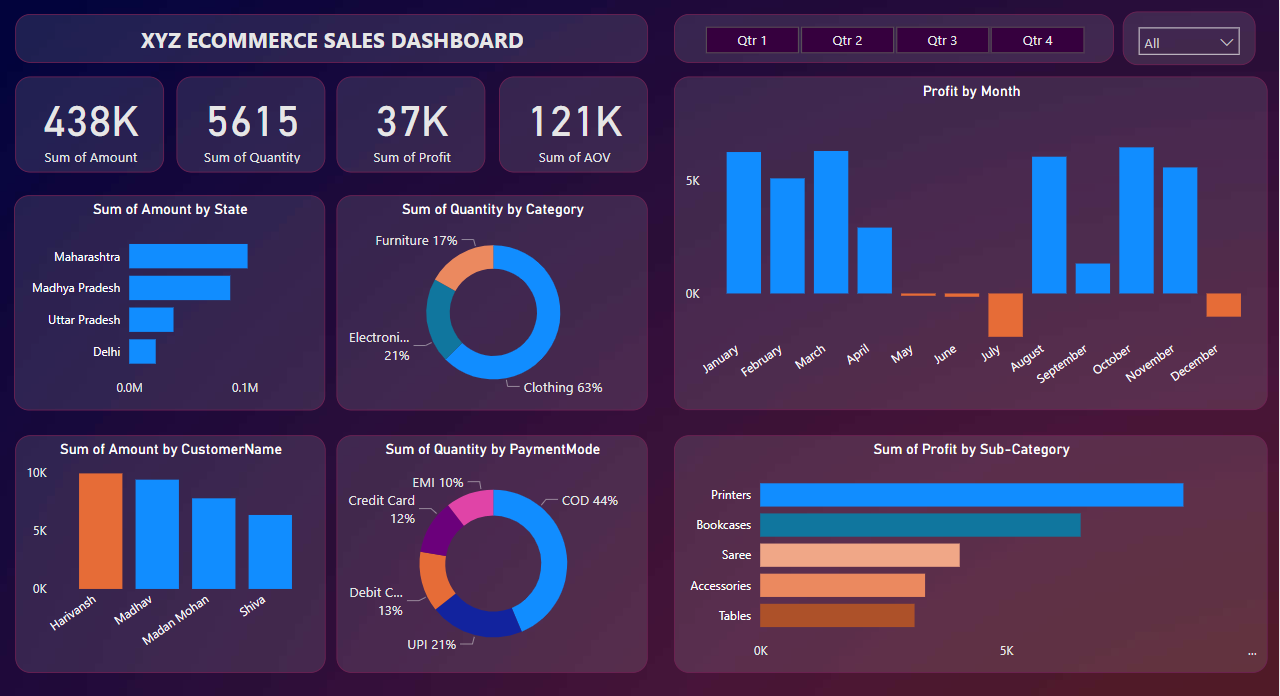

This screenshot's page, from the dashboard's own definition file:
{"tool":"powerbi","page":{"name":"Page 1","canvas":[1280,720],"ordinal":0},"visuals":[{"type":"textbox","box":[16.2,15,632.5,48.8],"z":0},{"type":"columnChart","title":"Profit by Month","fields":{"Y":["Sum(Details.Profit)"],"Category":["Orders.Order Date.Variation.Date Hierarchy.Month"]},"box":[675,77.5,593.8,333.8],"z":1000},{"type":"barChart","fields":{"Category":["Details.Sub-Category"],"Y":["Sum(Details.Profit)"]},"box":[675,436.2,593.8,237.5],"z":2000},{"type":"donutChart","fields":{"Category":["Details.Category"],"Y":["Sum(Details.Quantity)"]},"box":[337.5,196.2,311.2,215],"z":3000},{"type":"donutChart","fields":{"Y":["Sum(Details.Quantity)"],"Category":["Details.PaymentMode"]},"box":[337.5,436.2,311.2,237.5],"z":4000},{"type":"card","fields":{"Values":["Sum(Details.Amount)"]},"box":[16.2,77.5,148.8,96.2],"z":5000},{"type":"card","fields":{"Values":["Sum(Details.Quantity)"]},"box":[177.5,77.5,148.8,96.2],"z":6000},{"type":"card","fields":{"Values":["Sum(Details.Profit)"]},"box":[337.5,77.5,148.8,96.2],"z":7000},{"type":"card","fields":{"Values":["Sum(Details.AOV)"]},"box":[500,77.5,148.8,96.2],"z":8000},{"type":"barChart","fields":{"Category":["Orders.State"],"Y":["Sum(Details.Amount)"]},"box":[15,196.2,311.2,215],"z":9000},{"type":"columnChart","fields":{"Category":["Orders.CustomerName"],"Y":["Sum(Details.Amount)"]},"box":[16.2,436.2,310,237.5],"z":10000},{"type":"slicer","fields":{"Values":["Orders.Order Date.Variation.Date Hierarchy.Quarter"]},"box":[675,15,440,48.8],"z":11000},{"type":"slicer","fields":{"Values":["Orders.City"]},"box":[1123.8,12.5,132.5,53.8],"z":12000}]}

Visuals, with their boxes in screenshot pixels (x1, y1, x2, y2):
textbox: select_region(122, 0, 704, 32)
"Profit by Month" columnChart: select_region(728, 45, 1274, 352)
barChart - Details.Sub-Category x Sum(Details.Profit): select_region(728, 375, 1274, 593)
donutChart - Details.Category x Sum(Details.Quantity): select_region(417, 154, 704, 352)
donutChart - Sum(Details.Quantity) x Details.PaymentMode: select_region(417, 375, 704, 593)
card - Sum(Details.Amount): select_region(122, 45, 259, 133)
card - Sum(Details.Quantity): select_region(270, 45, 407, 133)
card - Sum(Details.Profit): select_region(417, 45, 554, 133)
card - Sum(Details.AOV): select_region(567, 45, 704, 133)
barChart - Orders.State x Sum(Details.Amount): select_region(120, 154, 407, 352)
columnChart - Orders.CustomerName x Sum(Details.Amount): select_region(122, 375, 407, 593)
slicer - Orders.Order Date.Variation.Date Hierarchy.Quarter: select_region(728, 0, 1133, 32)
slicer - Orders.City: select_region(1141, 0, 1263, 34)
